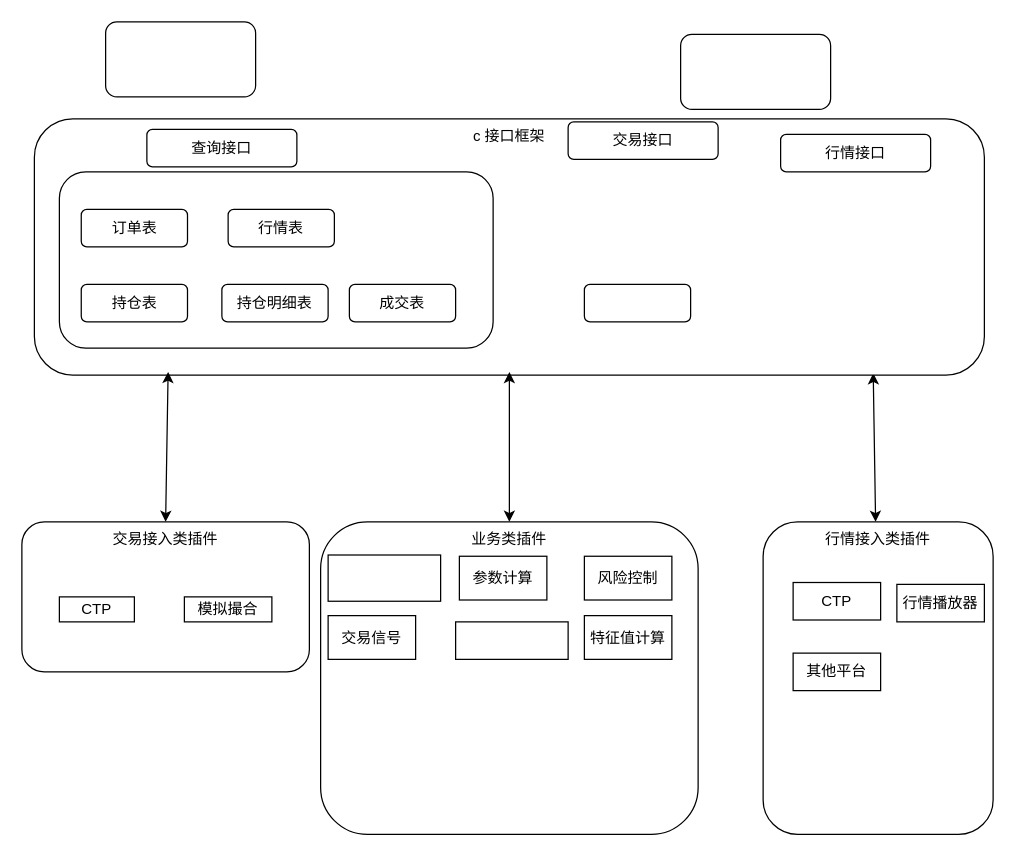
Image size: 1015x856. Some labels were removed from this diagram. The centre of each missing label's shape, as x and y in pixels:
"c++ 框架" goes at (x=180, y=59).
"python 框架" goes at (x=755, y=71).
"插件管理" goes at (x=637, y=302).
"行情录制" goes at (x=384, y=577).
"行情转发" goes at (x=511, y=640).
